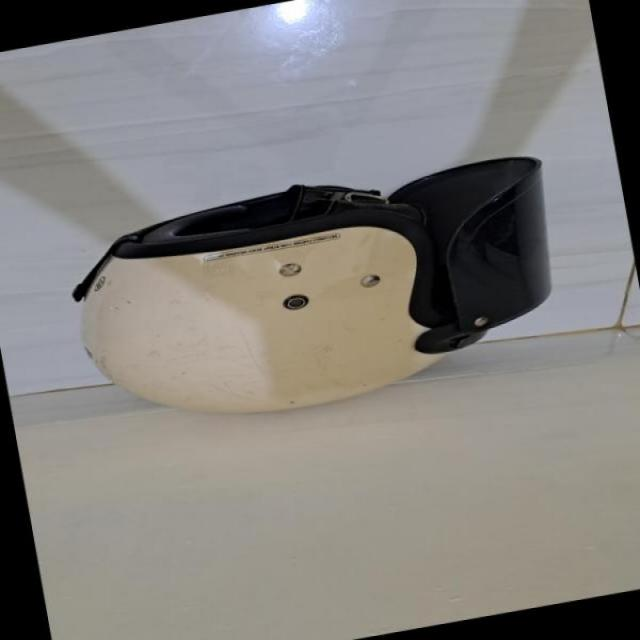Helmet: (64, 140, 562, 418)
